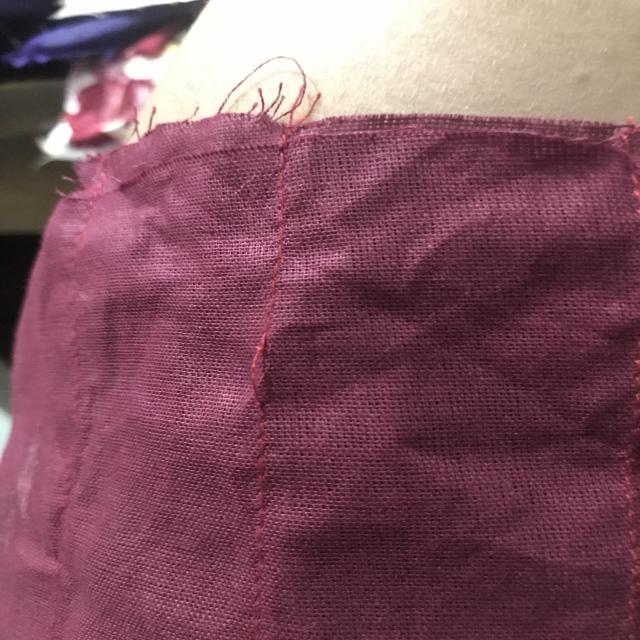good: (244, 444, 279, 538)
skip: (235, 313, 288, 421)
